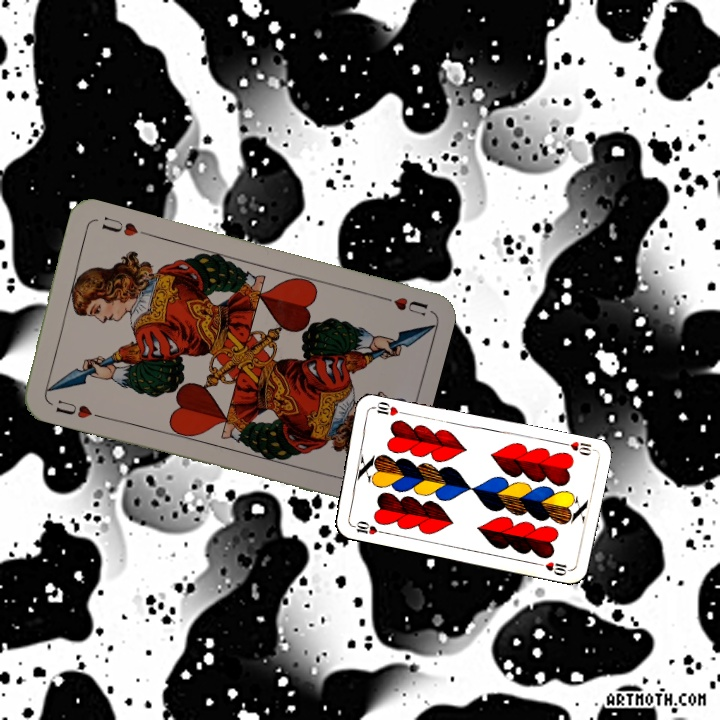H10: (556, 437, 596, 458), (346, 517, 387, 537)
HU: (373, 290, 430, 318), (52, 395, 103, 421)
